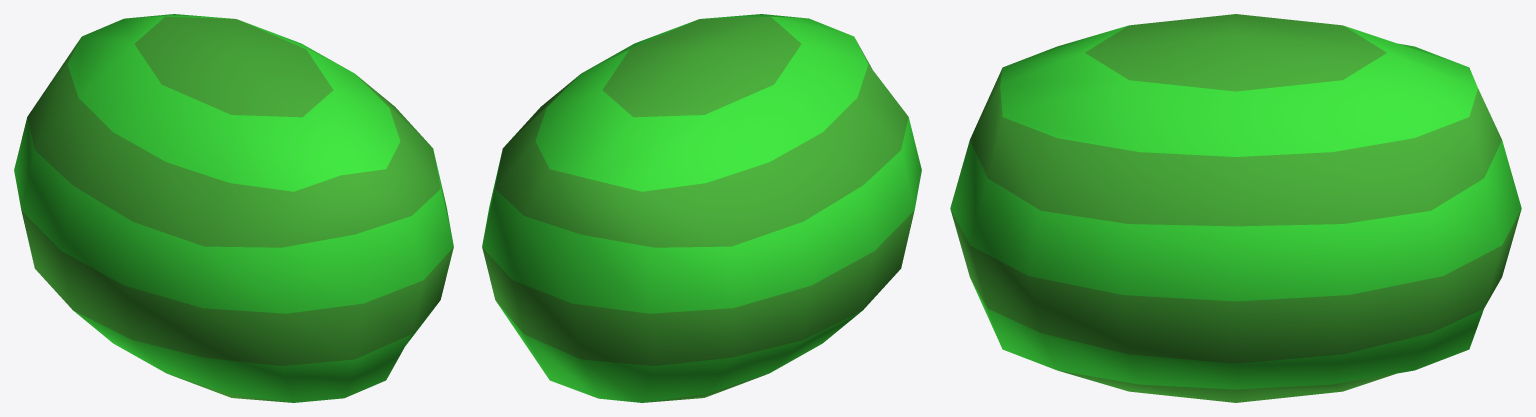
Rendered from Asset_12_sandia.fbx.
The picture shows the model from 3 angles, left to right: view 1: azimuth 30°, elevation 25°; view 2: azimuth 150°, elevation 25°; view 3: azimuth 270°, elevation 25°; orthographic projection. The views are drawn at different scales.
Visible parts, largest first — view 1: Cube; view 2: Cube; view 3: Cube.
Part boxes in pixels (<box>): Cube: <box>14,14,453,402</box>; Cube: <box>482,14,921,402</box>; Cube: <box>950,14,1521,402</box>.
Size of the model in its own units: 1054 by 915 by 1370.
